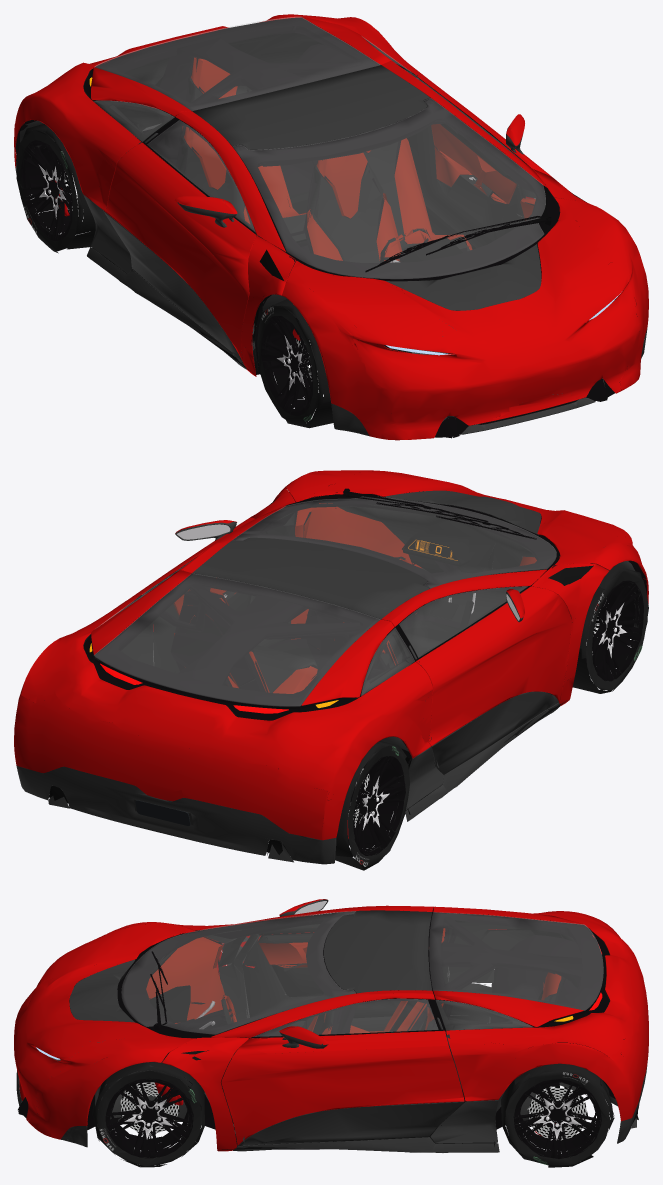
The model's file is traffic-gt.glb.
The picture shows the model from 3 angles, top to bottom: view 1: azimuth 30°, elevation 25°; view 2: azimuth 150°, elevation 25°; view 3: azimuth 270°, elevation 25°; orthographic projection. The views are drawn at different scales.
Visible parts, largest first — view 1: Body-paint, Body-glass, Body-panel, Body-paint-trim, Body-interior-accent, Body-interior, Body-interior-dark, WheelFrontR-rim-dark, WheelRearR-rim-dark, WheelRearR-tire-side, WheelFrontR-tire-side, Body-panel-side (+4 smaller); view 2: Body-paint, Body-glass, Body-paint-trim, Body-panel, Body-interior, Body-interior-accent, WheelFrontR-rim-dark, WheelRearR-rim-dark, Body-interior-dark, Body-floor, WheelFrontR-tire-side, WheelRearR-tire-side (+7 smaller); view 3: Body-paint, Body-glass, Body-panel, Body-paint-trim, Body-interior, Body-interior-accent, WheelFrontL-rim-dark, Body-panel-side, WheelRearL-rim-dark, WheelRearL-tire-side, WheelFrontL-tire-side, WheelFrontL-tire-tread (+8 smaller).
Part boxes in pixels (x1,y1,x2,y2): Body-paint: (14, 14, 648, 440); Body-glass: (94, 17, 545, 278); Body-panel: (16, 17, 637, 438); Body-paint-trim: (15, 65, 647, 436); Body-interior-accent: (182, 57, 535, 347); Body-interior: (15, 28, 523, 354); Body-interior-dark: (179, 77, 470, 262); WheelFrontR-rim-dark: (260, 316, 330, 416); WheelRearR-rim-dark: (21, 140, 82, 240); WheelRearR-tire-side: (16, 130, 78, 251); WheelFrontR-tire-side: (257, 305, 318, 425); Body-panel-side: (92, 175, 586, 373); Body-paint: (14, 470, 648, 840); Body-glass: (94, 496, 556, 706); Body-paint-trim: (16, 490, 644, 864); Body-panel: (83, 485, 646, 855); Body-interior: (49, 504, 534, 854); Body-interior-accent: (173, 503, 536, 693); WheelFrontR-rim-dark: (585, 580, 643, 681); WheelRearR-rim-dark: (348, 756, 405, 856); Body-interior-dark: (179, 615, 442, 692); Body-floor: (273, 600, 473, 765); WheelFrontR-tire-side: (586, 570, 648, 690); WheelRearR-tire-side: (347, 745, 409, 866); Body-paint: (14, 899, 648, 1151); Body-glass: (121, 911, 603, 1036); Body-panel: (18, 908, 638, 1149); Body-paint-trim: (16, 899, 647, 1152); Body-interior: (117, 914, 637, 1123); Body-interior-accent: (146, 928, 561, 1118); WheelFrontL-rim-dark: (105, 1077, 193, 1158); Body-panel-side: (181, 929, 496, 1149); WheelRearL-rim-dark: (513, 1079, 601, 1158); WheelRearL-tire-side: (505, 1071, 610, 1166); WheelFrontL-tire-side: (97, 1070, 202, 1166); WheelFrontL-tire-tread: (92, 1060, 204, 1167).
Bounding box in the file's own units: 1.5 × 0.7515 × 2.8.
Materials: 23 (5 with a texture image).
